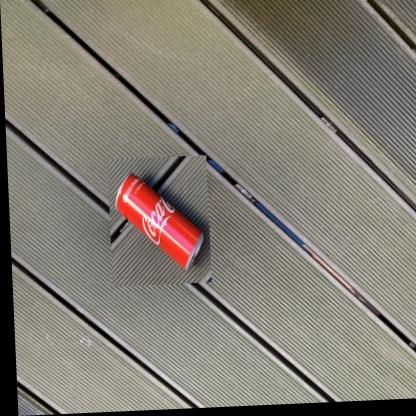trash: (116, 174, 203, 269)
